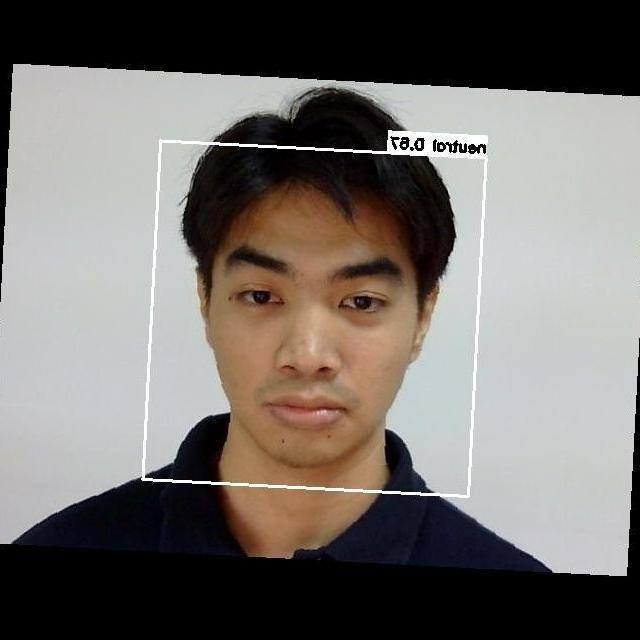Fear: (197, 225, 422, 460)
